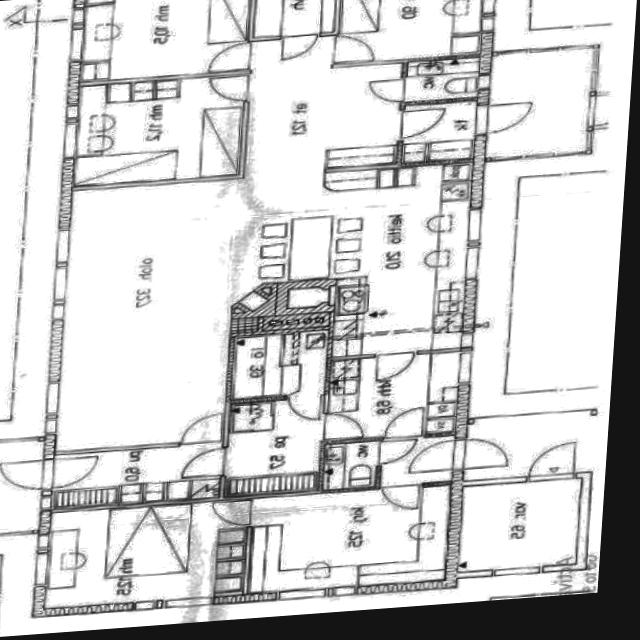room: (240, 482, 457, 594), (39, 499, 256, 607), (65, 73, 253, 186), (81, 0, 250, 81), (321, 351, 465, 439), (452, 478, 587, 571), (218, 396, 330, 496), (50, 443, 225, 506), (334, 0, 484, 63), (227, 329, 333, 399), (398, 99, 481, 163), (377, 434, 458, 485), (403, 56, 483, 101), (320, 440, 380, 489), (255, 0, 335, 36)
